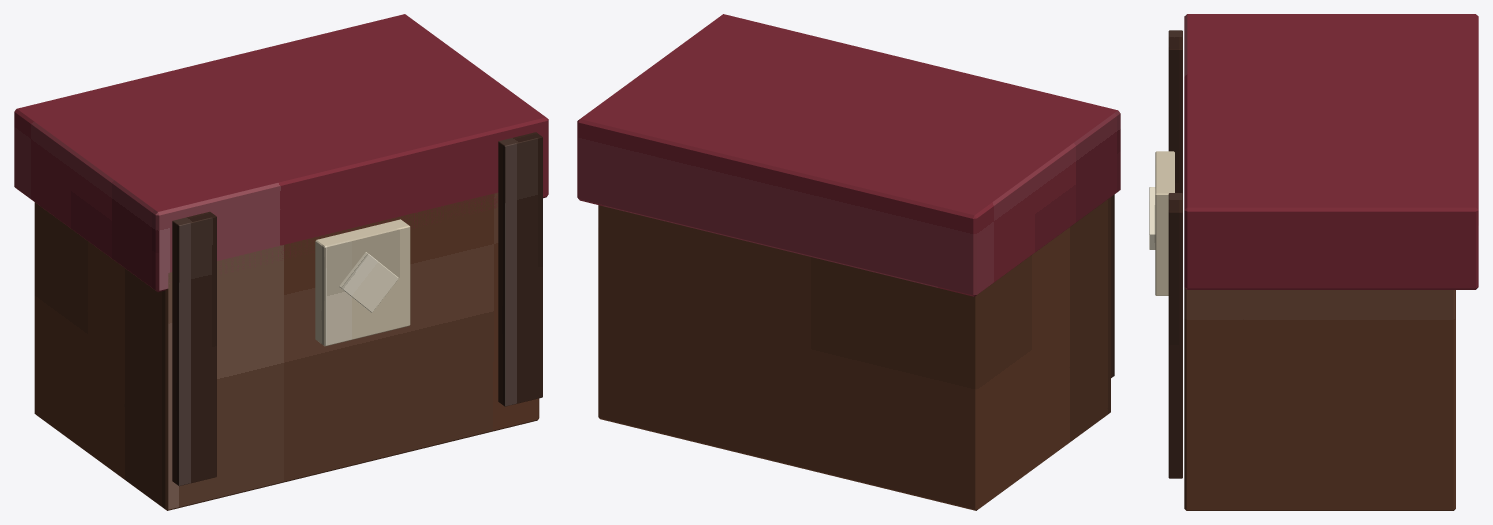
The model's file is toy_chest.glb.
3 renders of one model, left to right at view 1: azimuth 30°, elevation 25°; view 2: azimuth 150°, elevation 25°; view 3: azimuth 270°, elevation 25°, orthographic. The views are drawn at different scales.
Visible parts, largest first — view 1: ChestBody, ChestLid, ChestBand_L, ChestBand_R, ChestLatch, ChestHeart; view 2: ChestBody, ChestLid, ChestBand_L; view 3: ChestLid, ChestBody, ChestBand_R, ChestLatch, ChestBand_L, ChestHeart.
Boxes of the visible parts, <box> form: ChestBody: <box>34,192,539,510</box>; ChestLid: <box>14,14,548,292</box>; ChestBand_L: <box>172,211,216,486</box>; ChestBand_R: <box>498,132,542,406</box>; ChestLatch: <box>315,219,410,346</box>; ChestHeart: <box>339,252,398,312</box>; ChestBody: <box>598,197,1110,510</box>; ChestLid: <box>577,14,1120,296</box>; ChestBand_L: <box>1111,194,1114,377</box>; ChestLid: <box>1184,14,1478,289</box>; ChestBody: <box>1184,287,1455,510</box>; ChestBand_R: <box>1168,193,1182,478</box>; ChestLatch: <box>1155,151,1174,295</box>; ChestBand_L: <box>1168,30,1182,193</box>; ChestHeart: <box>1149,187,1155,249</box>.
Bounding box in the file's own units: 0.82 × 0.6 × 0.582.
Materials: 1 (1 with a texture image).
